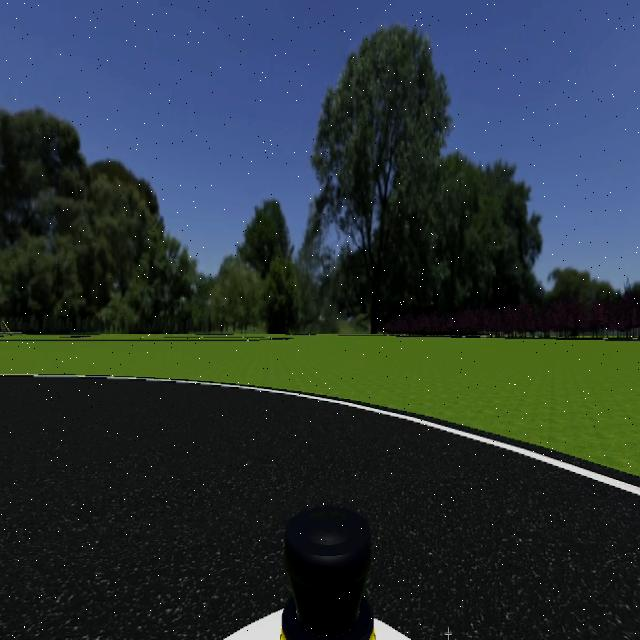road: (0, 377, 640, 640)
solid_line: (28, 374, 640, 499)
